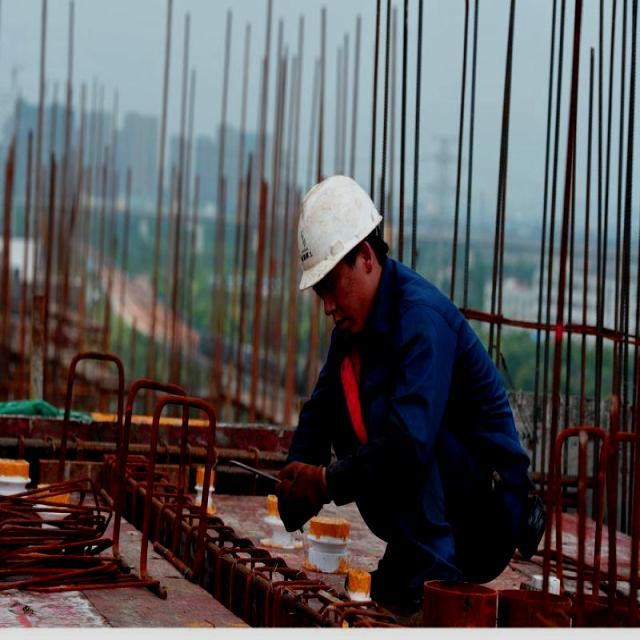face_nomask: (317, 245, 385, 337)
hand_glove: (274, 455, 333, 541)
head_helmet: (289, 175, 383, 287)
person: (296, 162, 529, 584)
